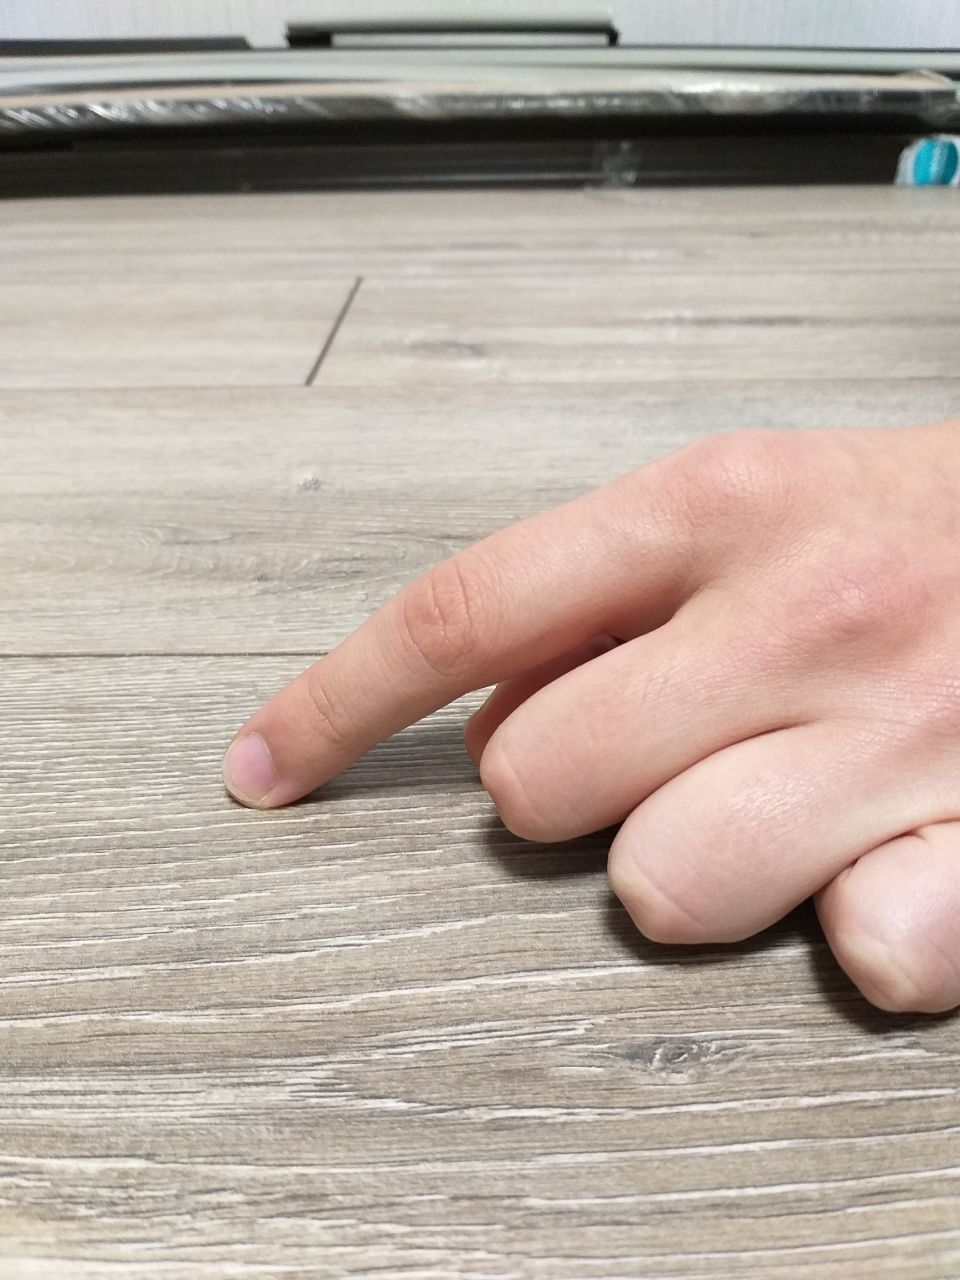finger: (224, 706, 312, 806)
